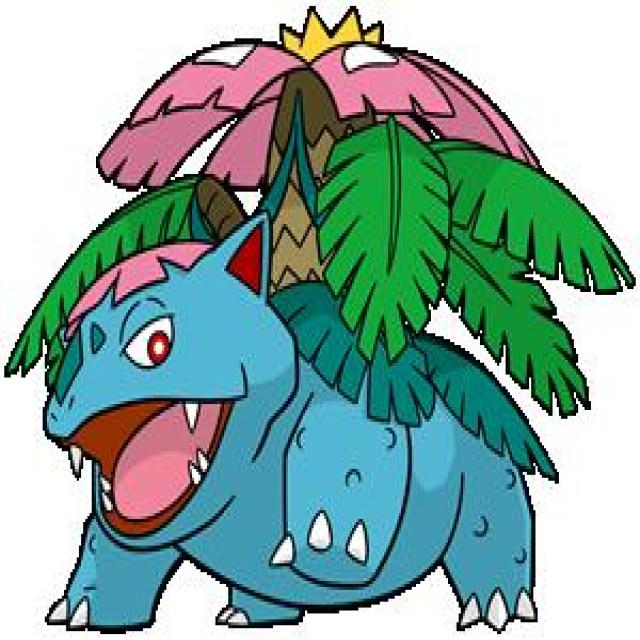Pokemon: (2, 3, 636, 634)
